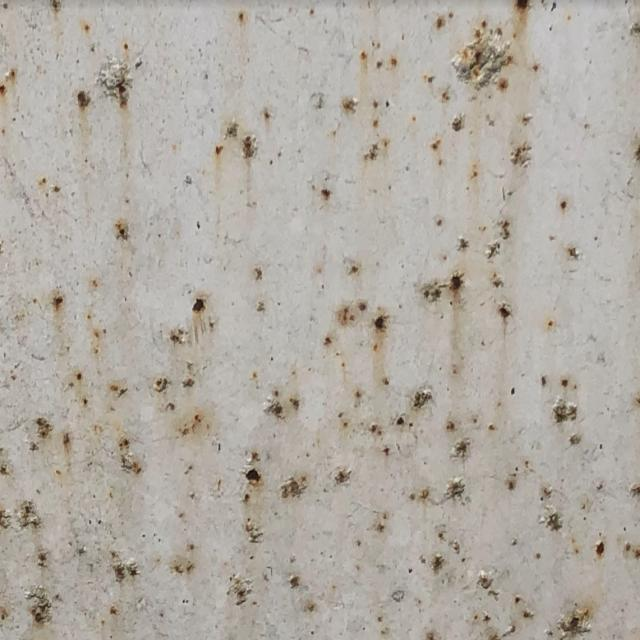Corrosion: (450, 22, 516, 91), (363, 98, 396, 162), (99, 60, 131, 111), (0, 502, 42, 532), (557, 604, 592, 640), (423, 271, 462, 302), (359, 42, 396, 72), (540, 484, 562, 533), (27, 588, 52, 629), (540, 370, 580, 395), (422, 75, 454, 104), (226, 573, 252, 607), (489, 220, 510, 259), (118, 438, 140, 474), (370, 424, 390, 459), (279, 478, 308, 502), (554, 399, 578, 426), (444, 475, 466, 504), (0, 70, 18, 104), (39, 173, 62, 198), (113, 558, 136, 582), (510, 143, 532, 167), (182, 413, 206, 435), (452, 437, 474, 460), (165, 328, 192, 346), (433, 135, 445, 175), (173, 558, 195, 579), (114, 218, 130, 246), (267, 392, 283, 420), (243, 134, 260, 159), (621, 541, 640, 563), (183, 359, 196, 391), (247, 517, 260, 548), (375, 512, 392, 533), (341, 302, 356, 325), (37, 414, 50, 440), (153, 376, 170, 395), (341, 96, 360, 113), (436, 12, 455, 29), (50, 294, 70, 310), (245, 468, 262, 486), (478, 570, 494, 589), (335, 469, 350, 489), (286, 572, 301, 592), (415, 391, 430, 410), (76, 91, 90, 110), (288, 396, 302, 415), (433, 550, 444, 573), (594, 539, 608, 556), (111, 384, 129, 397), (452, 115, 464, 134), (37, 548, 48, 568), (374, 314, 386, 332), (193, 297, 204, 316), (513, 0, 531, 10), (394, 414, 406, 429), (500, 305, 510, 322), (522, 610, 536, 622), (346, 260, 358, 274), (629, 21, 640, 36), (569, 246, 580, 260), (353, 388, 364, 402), (631, 481, 640, 498), (238, 10, 246, 28), (319, 188, 331, 200), (559, 196, 568, 212), (63, 432, 71, 448), (52, 0, 61, 12), (74, 370, 82, 382), (256, 265, 262, 281), (91, 280, 100, 290), (324, 335, 332, 346), (215, 145, 223, 154), (85, 22, 90, 34)
